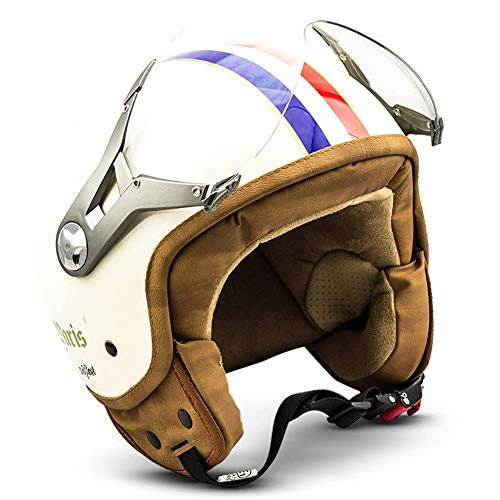with_helmet: (27, 24, 446, 448)
